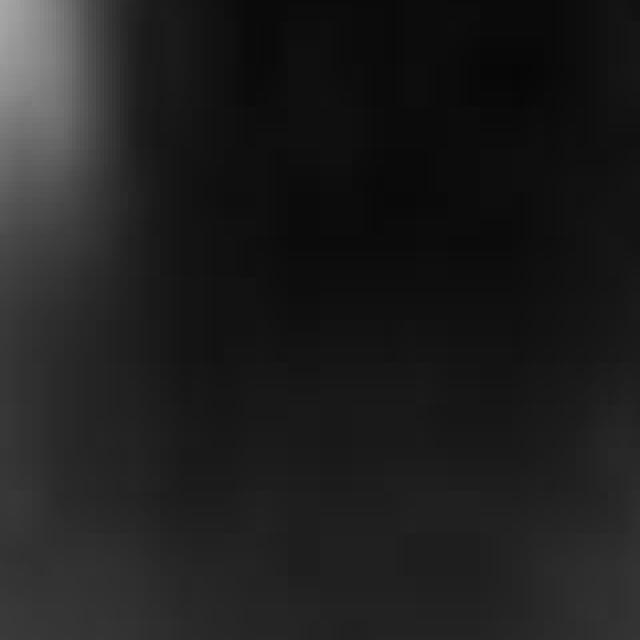person: (1, 1, 93, 396)
